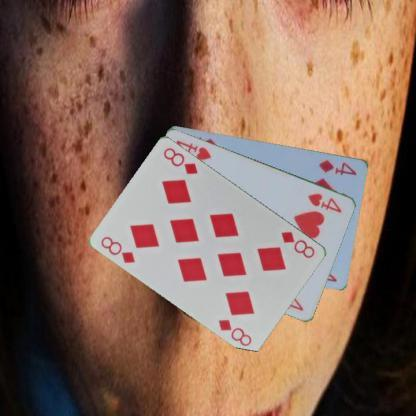4d: (314, 157, 358, 176)
4h: (305, 189, 343, 214)
8d: (98, 233, 137, 266), (278, 228, 316, 260)
